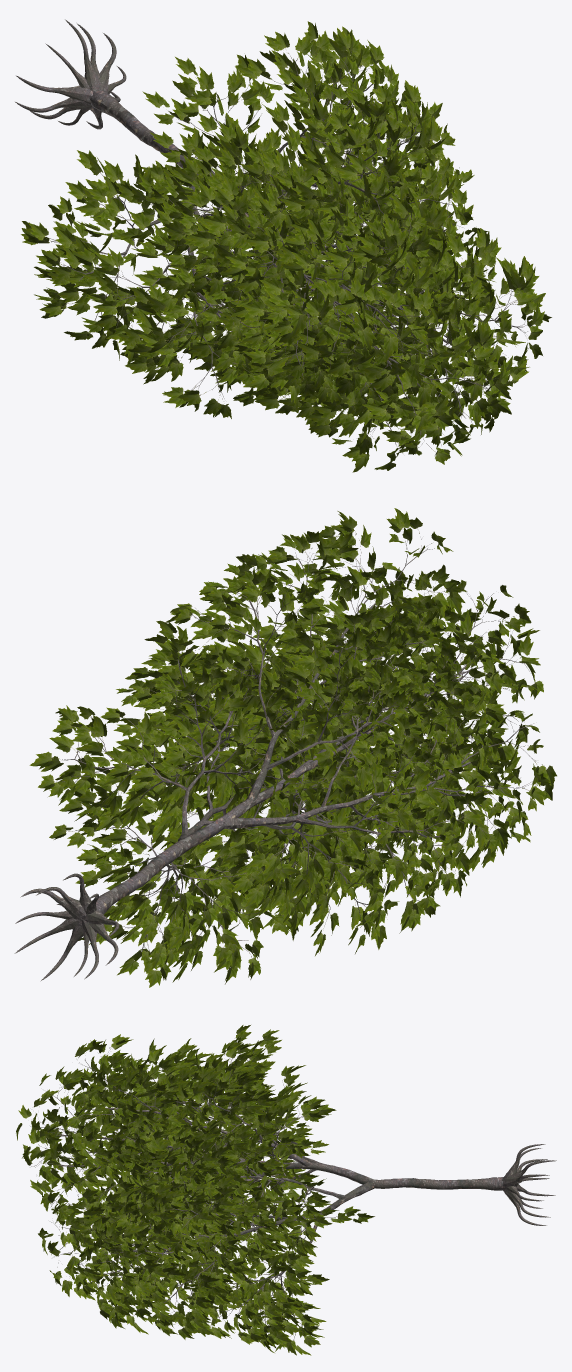
3 renders of one model, top to bottom at view 1: azimuth 30°, elevation 25°; view 2: azimuth 150°, elevation 25°; view 3: azimuth 270°, elevation 25°, orthographic. The views are drawn at different scales.
Parts seen in each view (by area): view 1: EA13y; view 2: EA13y; view 3: EA13y.
Part boxes in pixels (x1,y1,x2,y2): EA13y: (15,19,551,472); EA13y: (14,508,556,987); EA13y: (16,1025,556,1355).
Bounding box in the file's own units: 44.35 × 41.29 × 71.1.
Materials: 3 (3 with a texture image).
